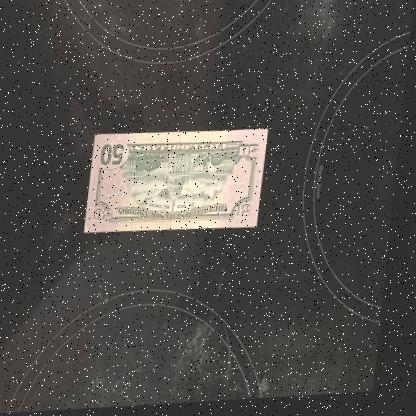fifty-back: (88, 127, 274, 240)
